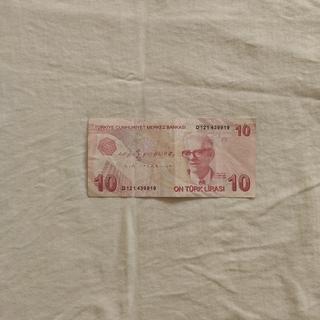10TLBack: (85, 116, 257, 199)
